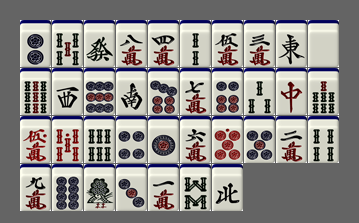0m: (20, 116, 51, 163)
0p: (212, 116, 243, 163)
0s: (52, 116, 83, 163)
1m: (148, 164, 179, 211)
1p: (148, 116, 179, 163)
1s: (84, 164, 115, 211)
1z: (276, 20, 307, 67)
2m: (276, 116, 307, 163)
2p: (20, 20, 51, 67)
2s: (180, 20, 211, 67)
2z: (116, 68, 147, 115)
3m: (244, 20, 275, 67)
3p: (116, 164, 147, 211)
3s: (244, 68, 275, 115)
3z: (52, 68, 83, 115)
4m: (148, 20, 179, 67)
4p: (116, 116, 147, 163)
4s: (308, 116, 339, 163)
4z: (212, 164, 243, 211)
5m: (212, 20, 243, 67)
5p: (244, 116, 275, 163)
5s: (52, 20, 83, 67)
5z: (308, 20, 339, 67)
6m: (180, 116, 211, 163)
6p: (212, 68, 243, 115)
6s: (84, 116, 115, 163)
6z: (84, 20, 115, 67)
7m: (180, 68, 211, 115)
7p: (148, 68, 179, 115)
7s: (308, 68, 339, 115)
7z: (276, 68, 307, 115)
8m: (116, 20, 147, 67)
8p: (52, 164, 83, 211)
8s: (180, 164, 211, 211)
9m: (20, 164, 51, 211)
9p: (84, 68, 115, 115)
9s: (20, 68, 51, 115)
